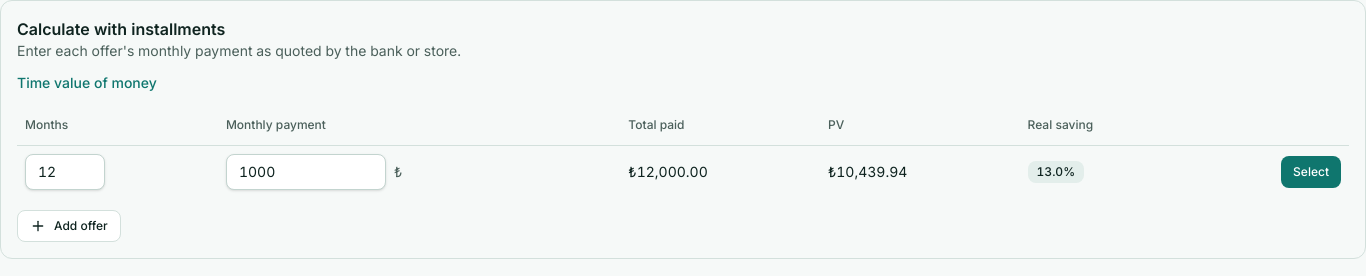
Scenario: InstallmentCalculator › lets the user type the real monthly payment from a bank quote and recomputes
This screenshot has width=1366, height=276.
Replace the text in the field named "Offer 1 monthly payment" with "1250.50" at (306, 172), box [226,154,386,190]
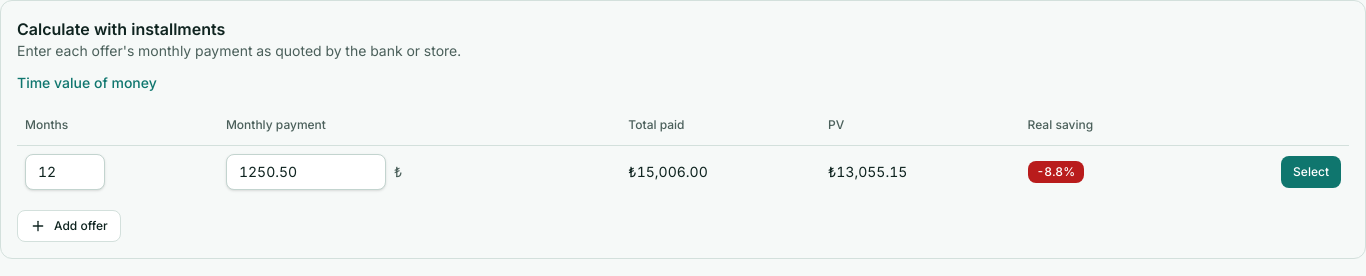
Now the cell with test id "total-paid-12" reads "₺15,006.00", box [628,162,708,180]
